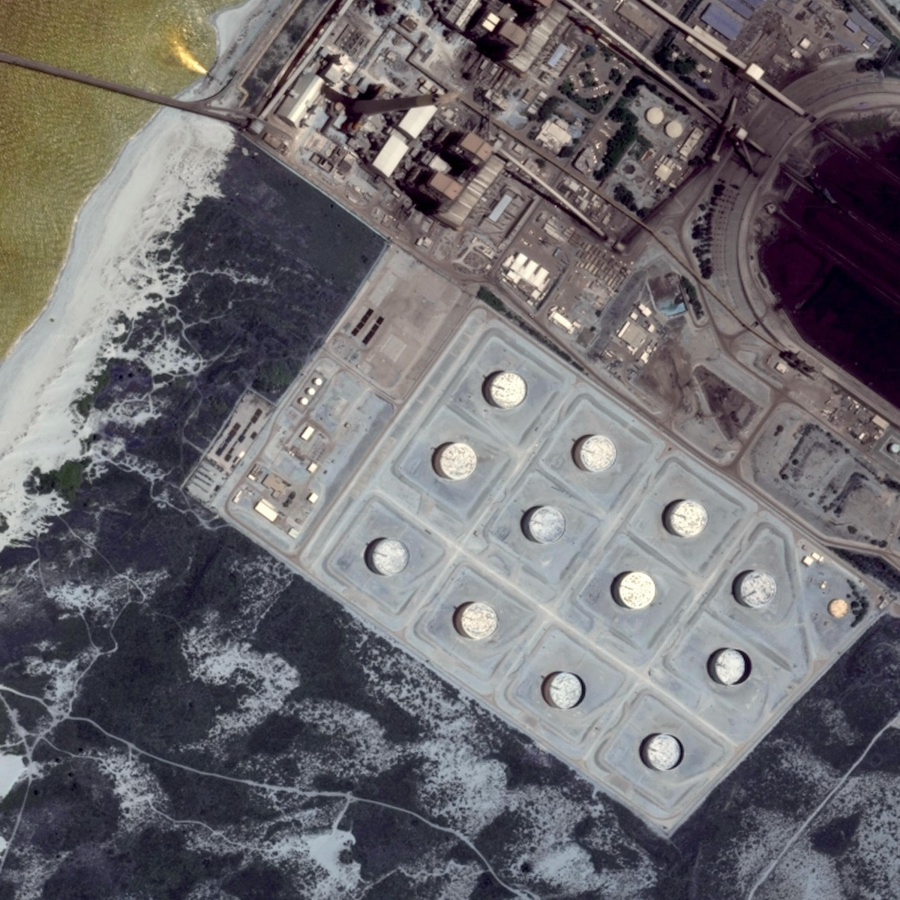PowerPlant: (329, 331, 837, 797)
